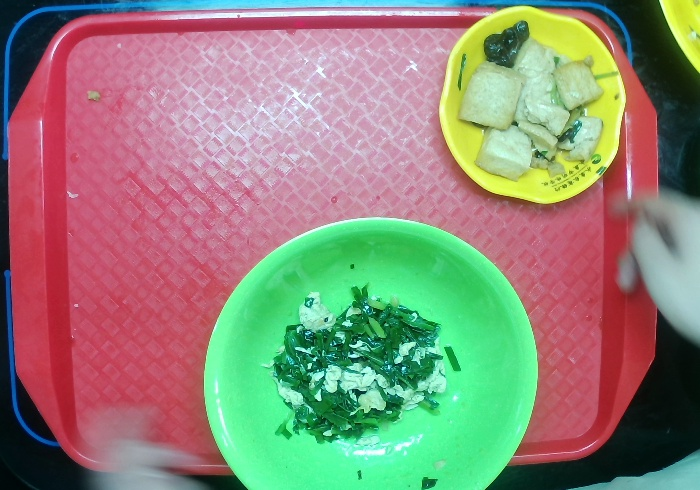YKMZ-Huang_Se_Ao_Bian_Wan: (432, 2, 629, 207)
YKMZ-Lv_Se_Tang_Wan: (198, 212, 543, 490)
